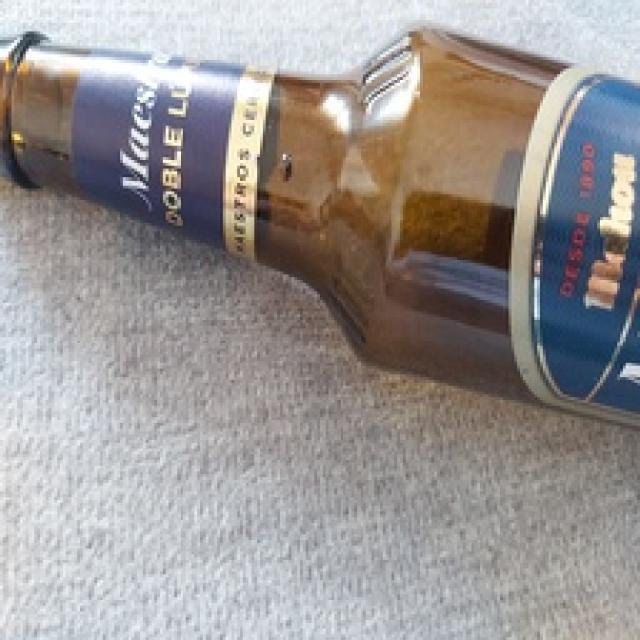Glass: (0, 19, 640, 436)
